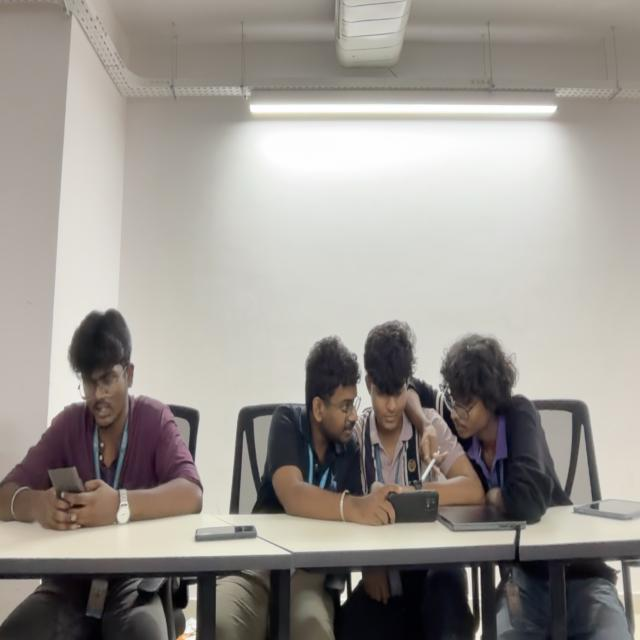Isolated: (1, 315, 204, 525)
socializing: (268, 319, 568, 522)
